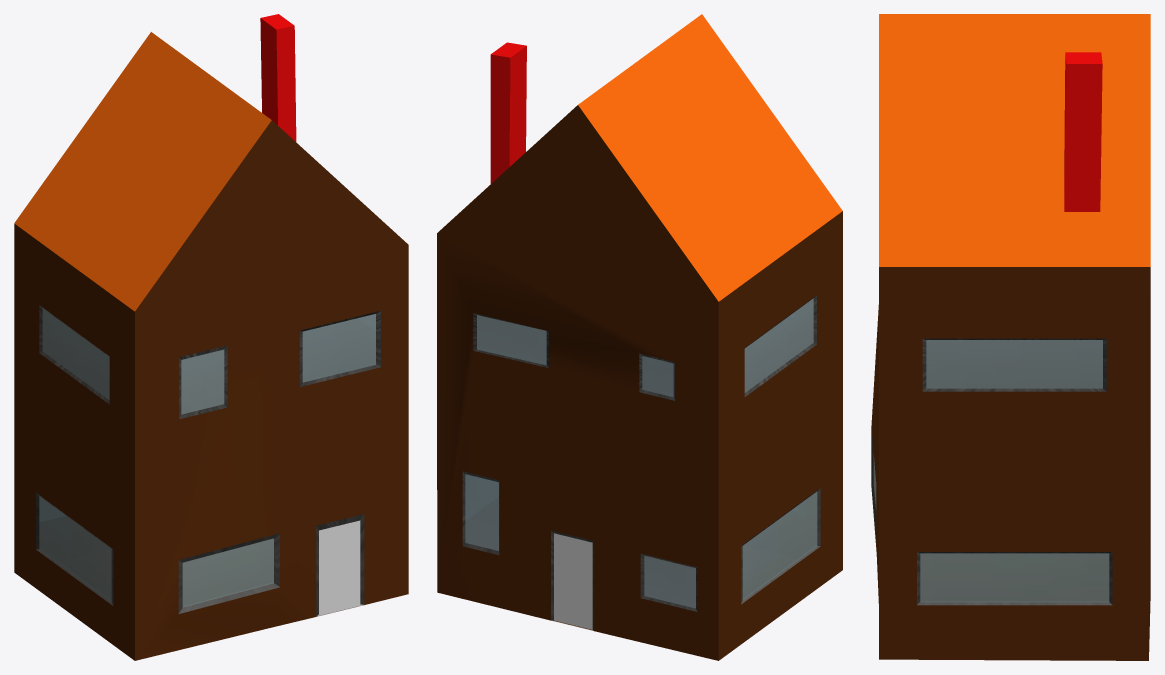
The model's file is SimpelHouse.fbx.
3 renders of one model, left to right at view 1: azimuth 30°, elevation 25°; view 2: azimuth 150°, elevation 25°; view 3: azimuth 270°, elevation 25°, orthographic. The views are drawn at different scales.
Parts seen in each view (by area): view 1: pCube1; view 2: pCube1; view 3: pCube1.
Boxes of the visible parts, x1,y1,x2,y2 form: pCube1: [14, 14, 408, 660]; pCube1: [437, 14, 842, 660]; pCube1: [871, 14, 1150, 660].
Bounding box in the file's own units: 4.95 × 8.91 × 3.88.
Materials: 7 (6 with a texture image).
